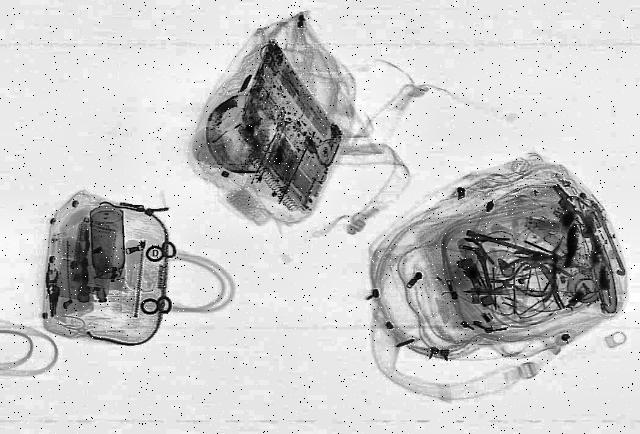Pliers: (482, 257, 556, 302)
